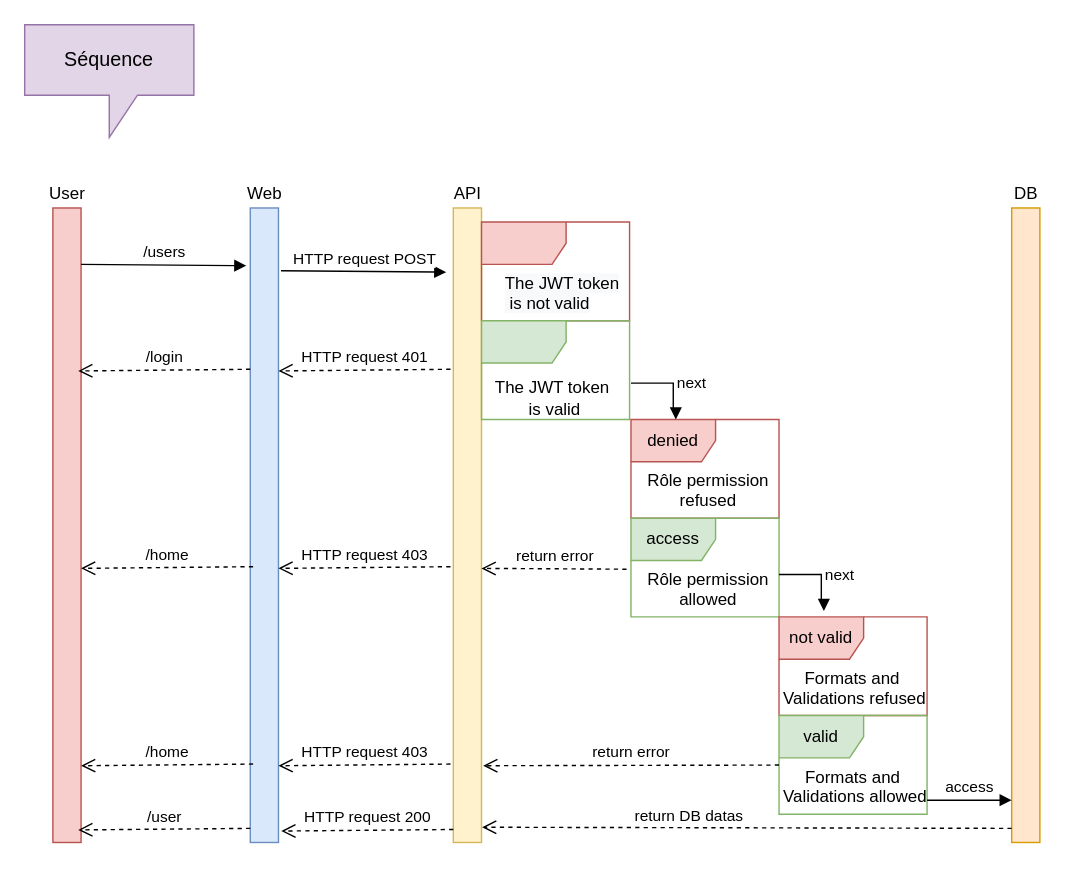
The diagram is 1072 pixels wide and 870 high, and some of its shapes have lost their labels. Each missing label, with the box of its shape:
empty: (480, 221, 630, 321)
not empty: (480, 319, 630, 419)
